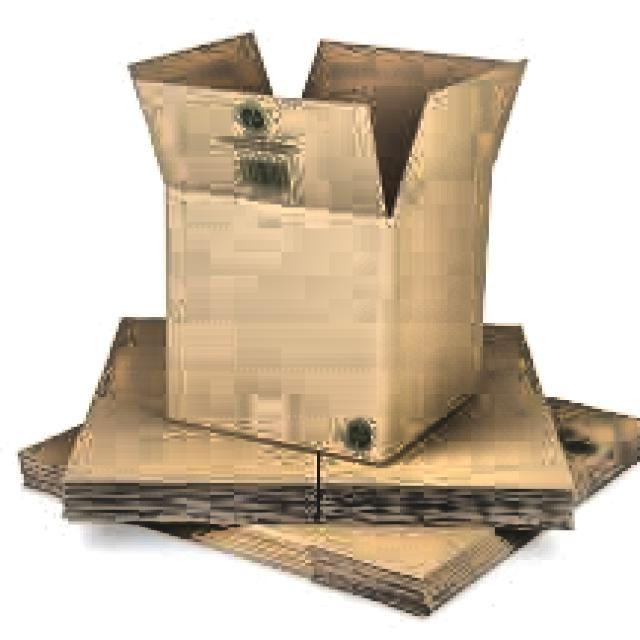cardboard: (125, 29, 528, 466)
